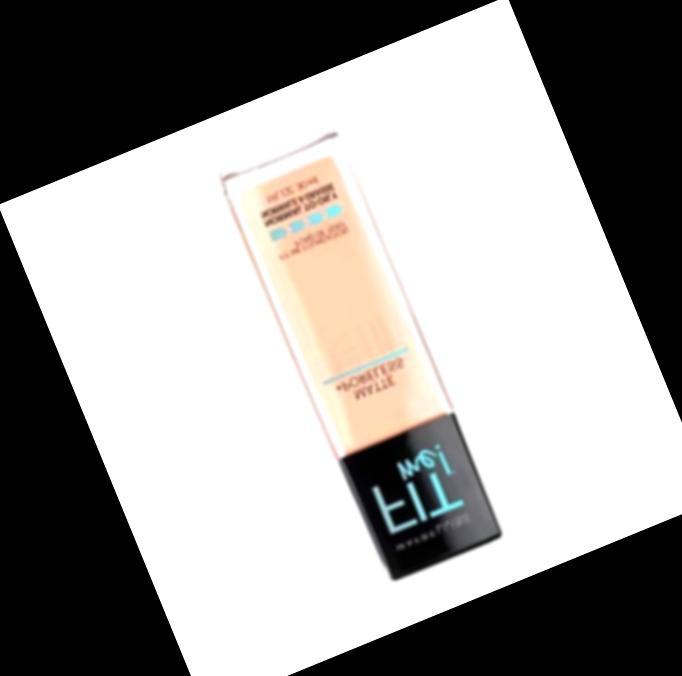cosmetic: (221, 121, 506, 583)
